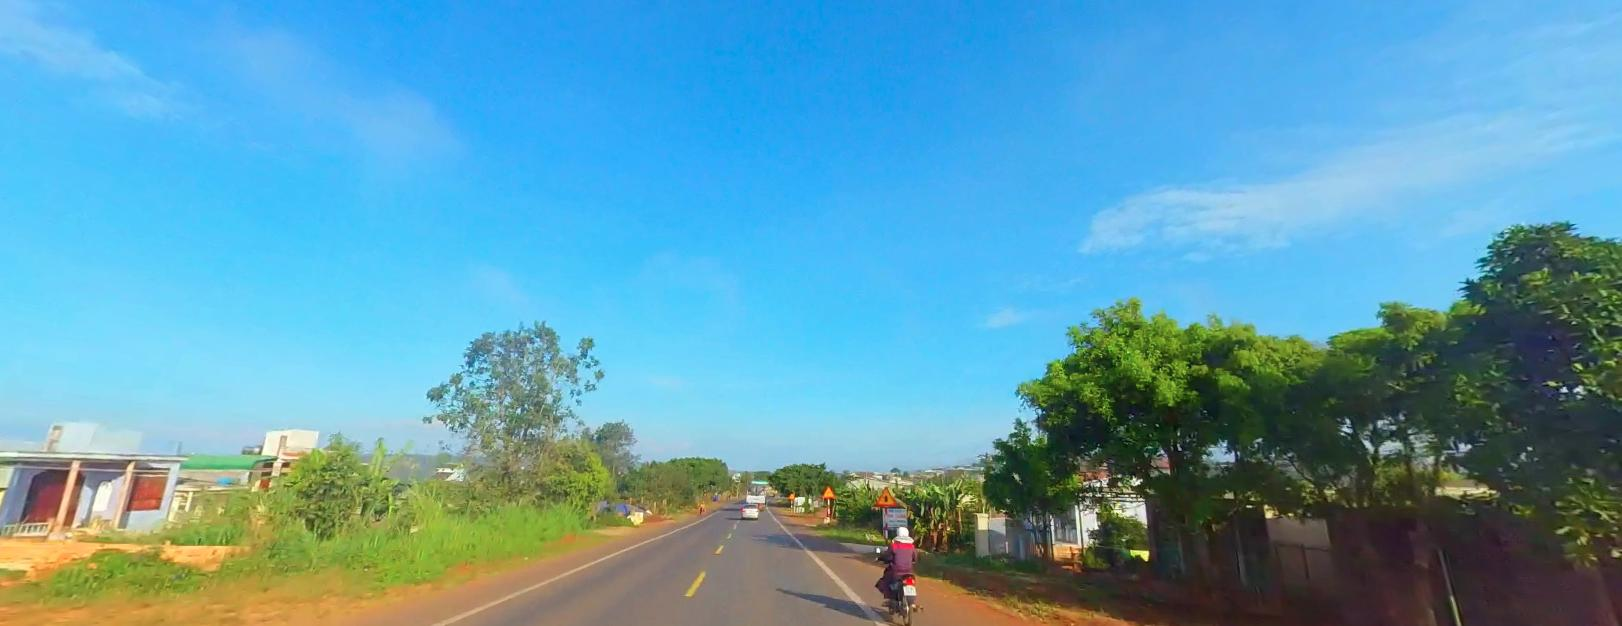Nguy hiem: (875, 486, 898, 506), (874, 486, 896, 506), (822, 483, 836, 496), (821, 485, 835, 497), (787, 490, 794, 498), (787, 491, 795, 498)
